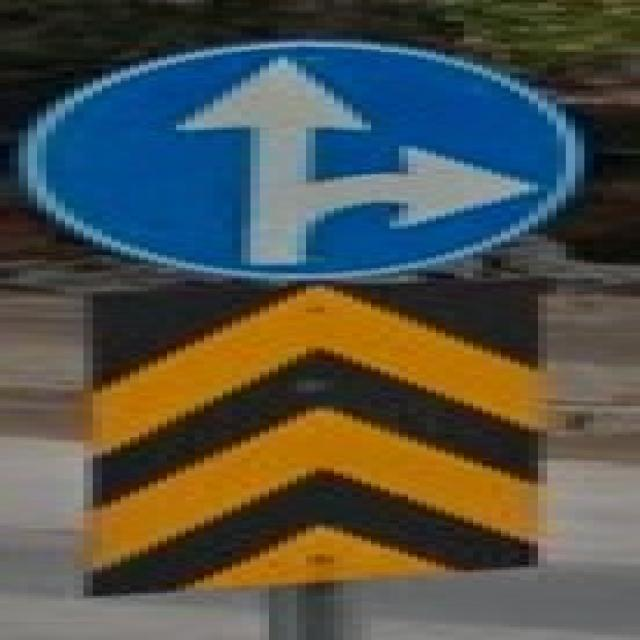Straight or Right: (34, 39, 572, 281)
